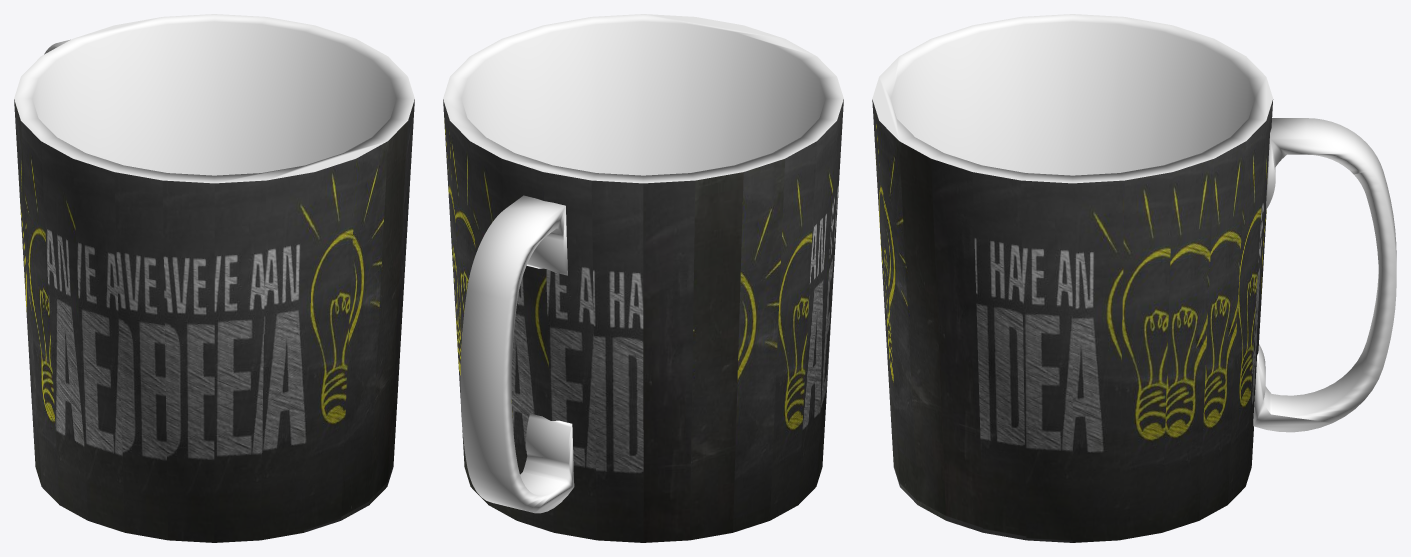
The picture shows the model from 3 angles, left to right: view 1: azimuth 30°, elevation 25°; view 2: azimuth 150°, elevation 25°; view 3: azimuth 270°, elevation 25°; orthographic projection.
Visible parts, largest first — view 1: mesh1_mesh1-geometry, mesh1_mesh1-geometry_1; view 2: mesh1_mesh1-geometry, mesh1_mesh1-geometry_1, mesh2_mesh2-geometry; view 3: mesh1_mesh1-geometry, mesh1_mesh1-geometry_1, mesh2_mesh2-geometry.
Boxes of the visible parts, bbox=[...] form: mesh1_mesh1-geometry: bbox=[14, 99, 414, 542]; mesh1_mesh1-geometry_1: bbox=[14, 14, 414, 183]; mesh1_mesh1-geometry: bbox=[443, 99, 843, 542]; mesh1_mesh1-geometry_1: bbox=[443, 14, 843, 183]; mesh2_mesh2-geometry: bbox=[460, 195, 574, 513]; mesh1_mesh1-geometry: bbox=[872, 99, 1273, 542]; mesh1_mesh1-geometry_1: bbox=[872, 14, 1272, 183]; mesh2_mesh2-geometry: bbox=[1253, 118, 1396, 432].
Size of the model in its own units: 0.5171 by 0.5246 by 0.6763.
Materials: 4 (1 with a texture image).
